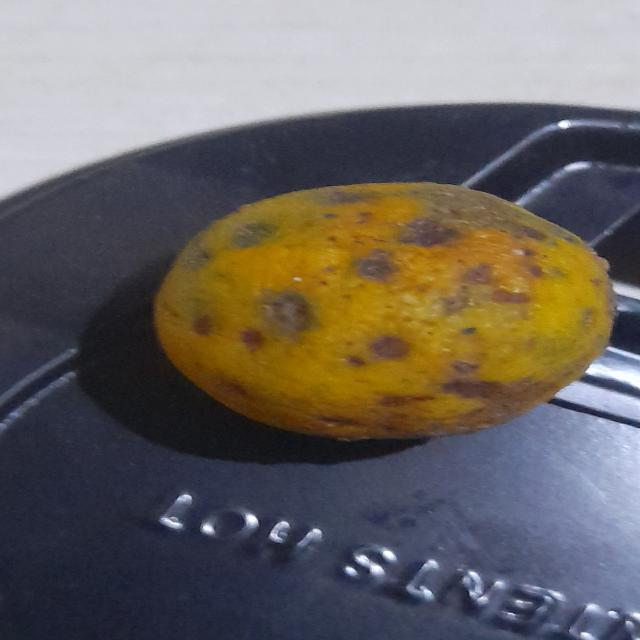black spot: (138, 174, 620, 451)
